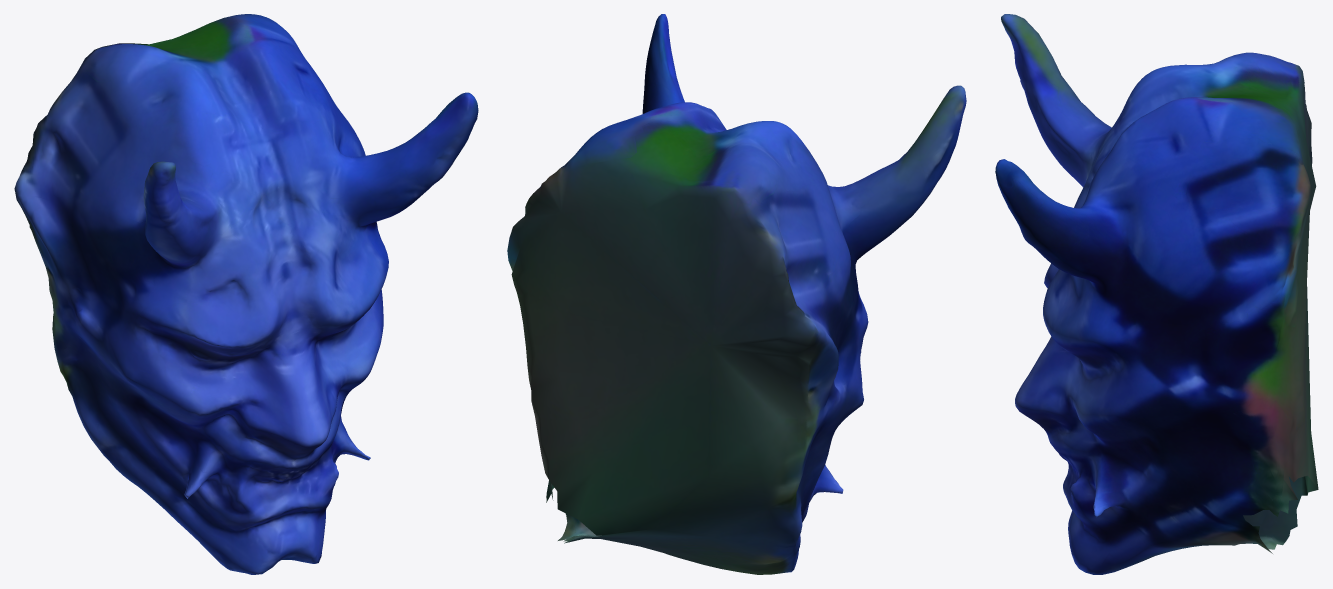
Rendered from oni.glb.
3 views of the same model, side by side, from view 1: azimuth 30°, elevation 25°; view 2: azimuth 150°, elevation 25°; view 3: azimuth 270°, elevation 25° (orthographic).
Parts seen in each view (by area): view 1: 3DModel.002; view 2: 3DModel.002; view 3: 3DModel.002.
Boxes of the visible parts, x1,y1,x2,y2 form: 3DModel.002: [14, 14, 478, 574]; 3DModel.002: [507, 14, 966, 574]; 3DModel.002: [995, 14, 1318, 574].
Bounding box in the file's own units: 0.3234 × 0.4618 × 0.2863.
1 material, 1 textured.
